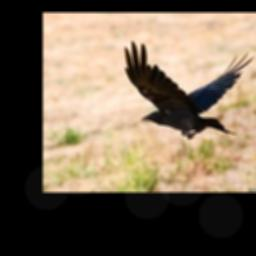Crow: (121, 39, 256, 139)
